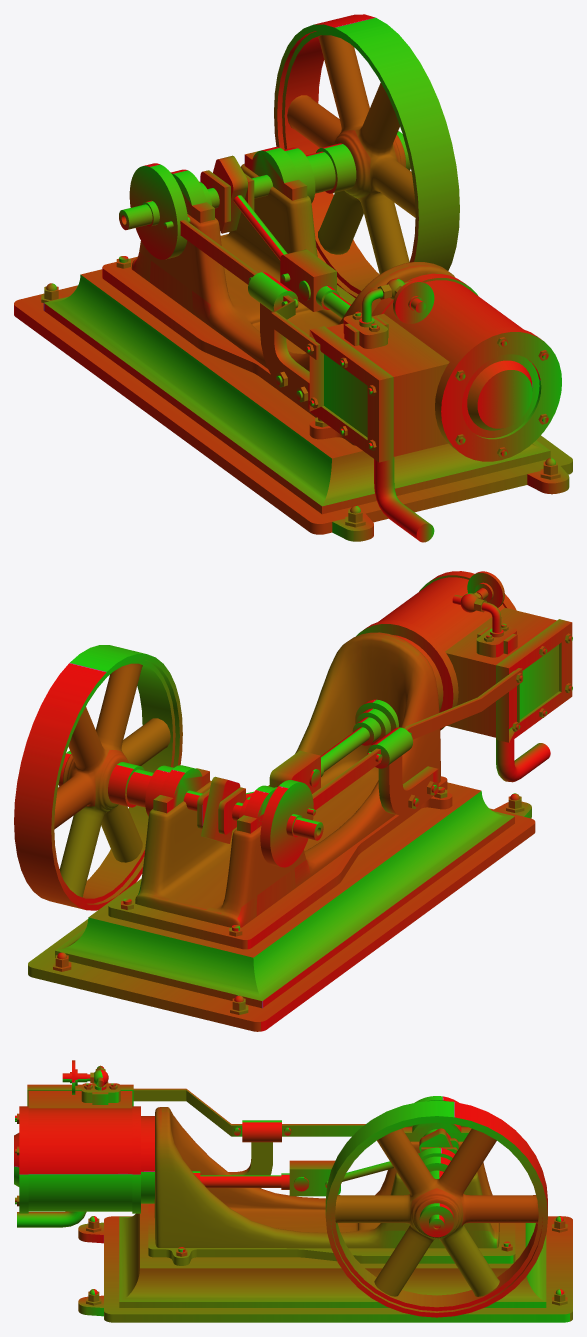
File: parnas.obj
3 renders of one model, top to bottom at view 1: azimuth 30°, elevation 25°; view 2: azimuth 150°, elevation 25°; view 3: azimuth 270°, elevation 25°, orthographic. The views are drawn at different scales.
Parts seen in each view (by area): view 1: polySurface4, subdivCube1, pCylinder32, polySurface6, pCube1, group20 polySurface5, polySurface7, pCube5, pCube4, polySurface8, group20 pCylinder7, pCylinder45 (+20 smaller); view 2: subdivCube1, polySurface4, polySurface6, pCube1, pCylinder32, pCube4, polySurface7, pCube5, polySurface8, group20 pCylinder7, pCylinder45, pCube11 (+17 smaller); view 3: polySurface4, subdivCube1, pCylinder32, group20 pCylinder7, pCube1, polySurface6, polySurface8, pCube4, pCube13, pCube5, pCube14, group20 pCylinder28 (+16 smaller).
Part boxes in pixels (<box>): polySurface4: <box>43,269,550,514</box>; subdivCube1: <box>131,163,455,371</box>; pCylinder32: <box>287,35,415,274</box>; polySurface6: <box>274,14,459,298</box>; pCube1: <box>14,285,572,534</box>; group20 polySurface5: <box>435,327,561,461</box>; polySurface7: <box>309,326,393,462</box>; pCube5: <box>326,313,449,456</box>; pCube4: <box>102,256,355,445</box>; polySurface8: <box>282,31,379,294</box>; group20 pCylinder7: <box>384,280,523,361</box>; pCylinder45: <box>129,163,188,259</box>; subdivCube1: <box>135,632,440,927</box>; polySurface4: <box>55,782,514,1008</box>; polySurface6: <box>14,645,182,910</box>; pCube1: <box>28,808,535,1031</box>; pCylinder32: <box>54,663,170,897</box>; pCube4: <box>108,776,452,949</box>; polySurface7: <box>496,619,572,742</box>; pCube5: <box>445,608,556,737</box>; polySurface8: <box>62,659,175,903</box>; group20 pCylinder7: <box>378,577,504,651</box>; pCylinder45: <box>260,780,313,867</box>; pCube11: <box>378,755,438,815</box>; polySurface4: <box>119,1203,546,1307</box>; subdivCube1: <box>154,1107,499,1248</box>; pCylinder32: <box>335,1128,538,1296</box>; group20 pCylinder7: <box>28,1108,132,1211</box>; pCube1: <box>104,1216,572,1322</box>; polySurface6: <box>325,1100,547,1317</box>; polySurface8: <box>331,1120,542,1311</box>; pCube4: <box>148,1203,515,1265</box>; pCube13: <box>133,1088,242,1136</box>; pCube5: <box>28,1091,132,1108</box>; pCube14: <box>289,1160,340,1196</box>; group20 pCylinder28: <box>141,1116,154,1203</box>.
Size of the model in its own units: 4.58 by 3.95 by 9.22.
Materials: 1 (1 with a texture image).
